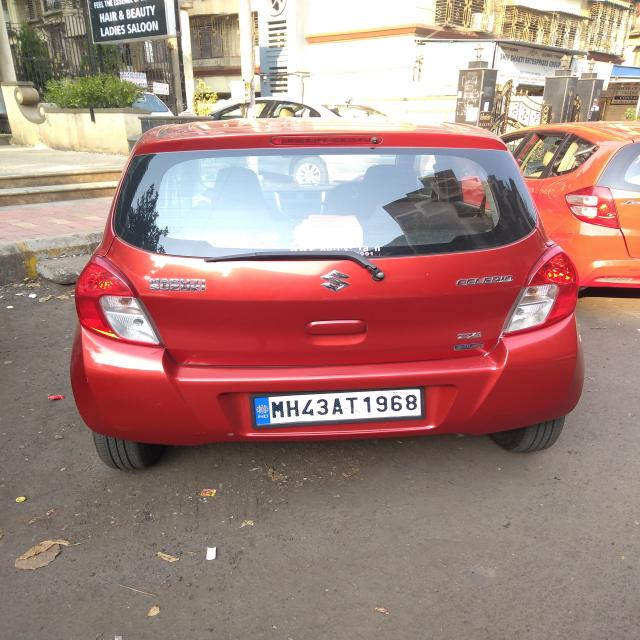Number-Plate: (262, 391, 420, 423)
